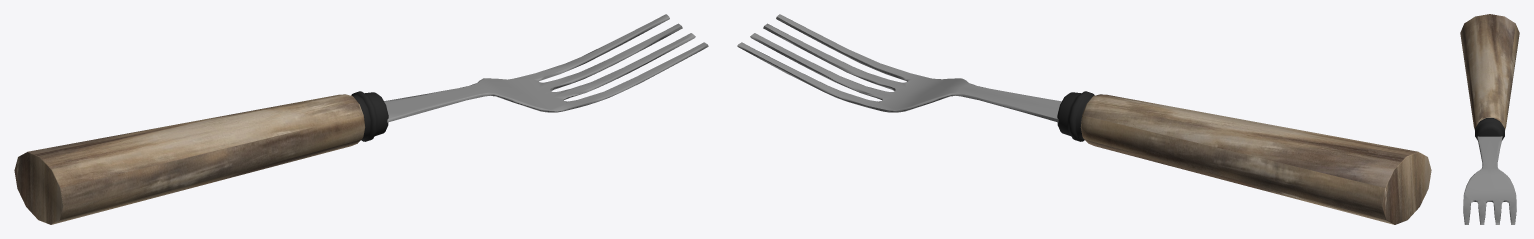
File: Fork.FBX
3 renders of one model, left to right at view 1: azimuth 30°, elevation 25°; view 2: azimuth 150°, elevation 25°; view 3: azimuth 270°, elevation 25°, orthographic. The views are drawn at different scales.
Parts seen in each view (by area): view 1: Fork; view 2: Fork; view 3: Fork.
Boxes of the visible parts, x1,y1,x2,y2 form: Fork: (14, 14, 708, 224); Fork: (737, 14, 1431, 224); Fork: (1460, 14, 1519, 224).
Bounding box in the file's own units: 1.79 × 0.1672 × 0.235.
3 materials, 1 textured.
